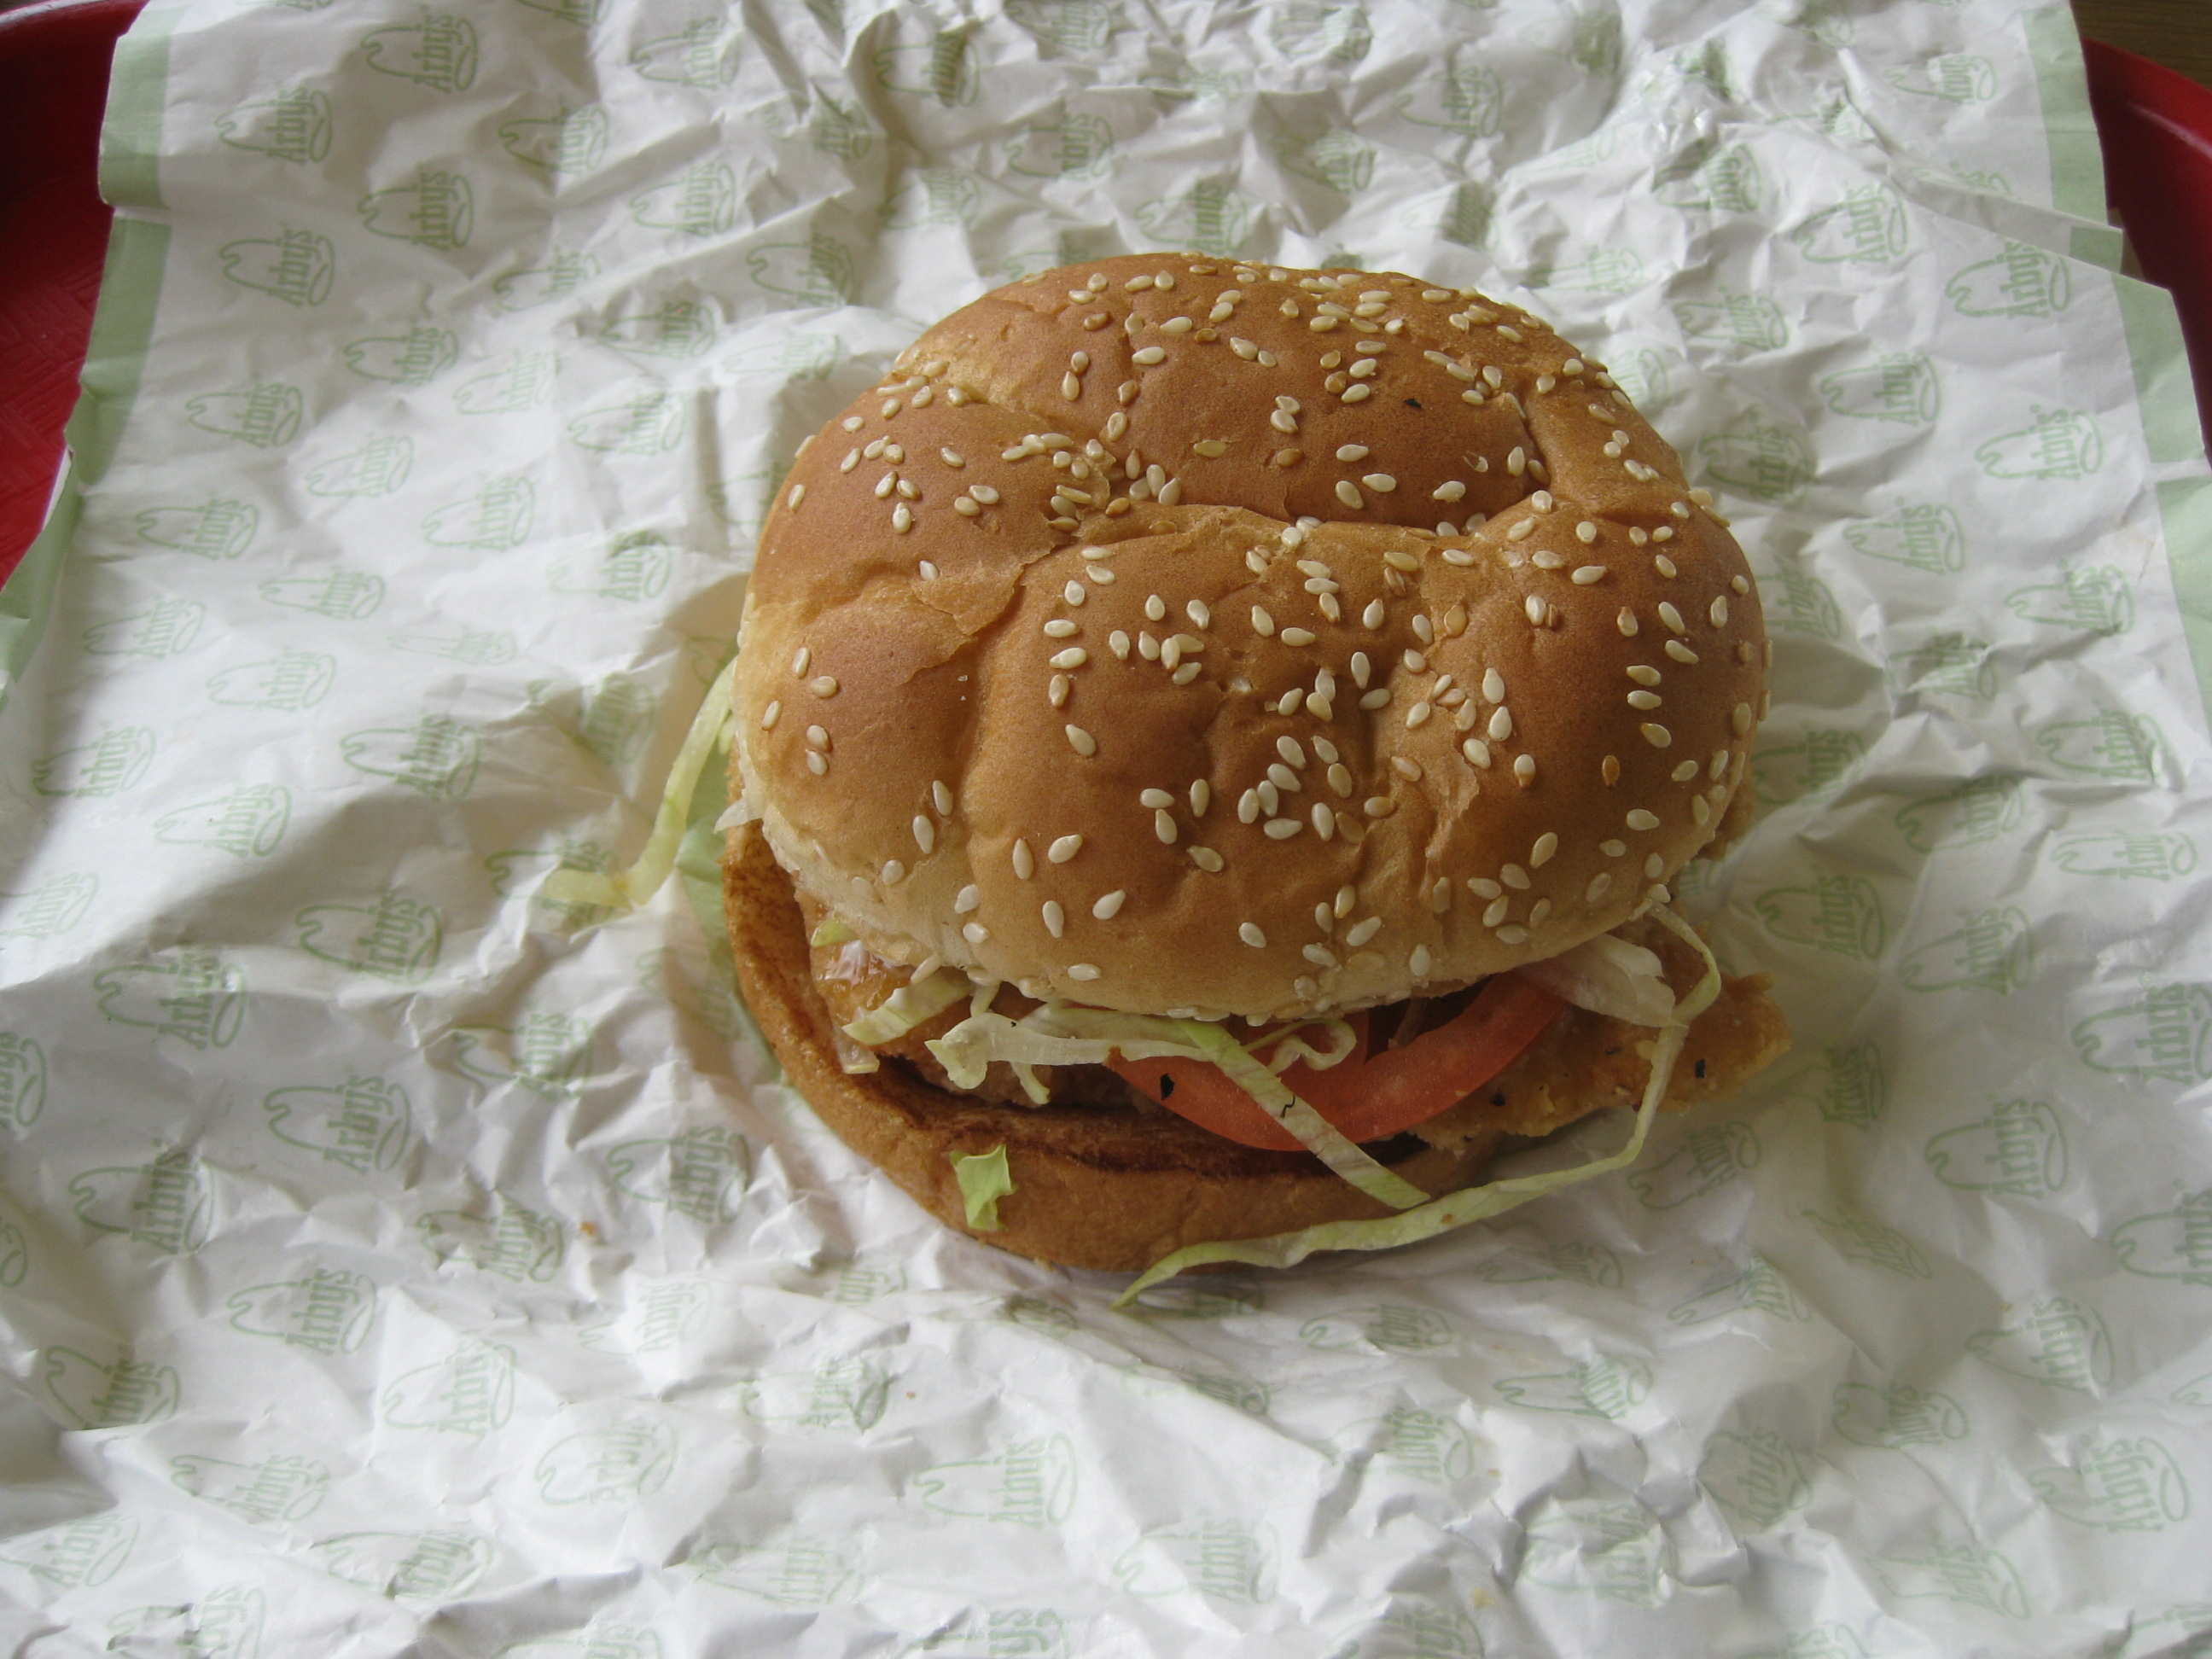burger: (629, 225, 1872, 1286)
